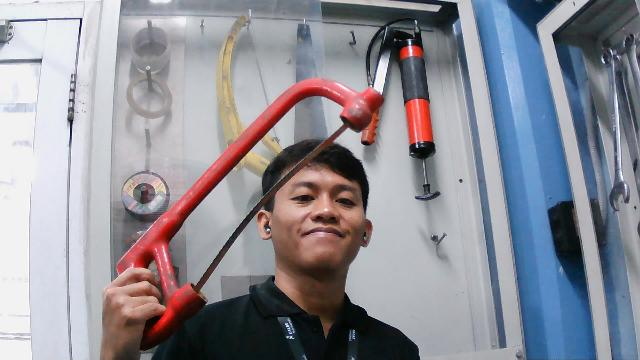gergaji_besi: (112, 76, 388, 353)
